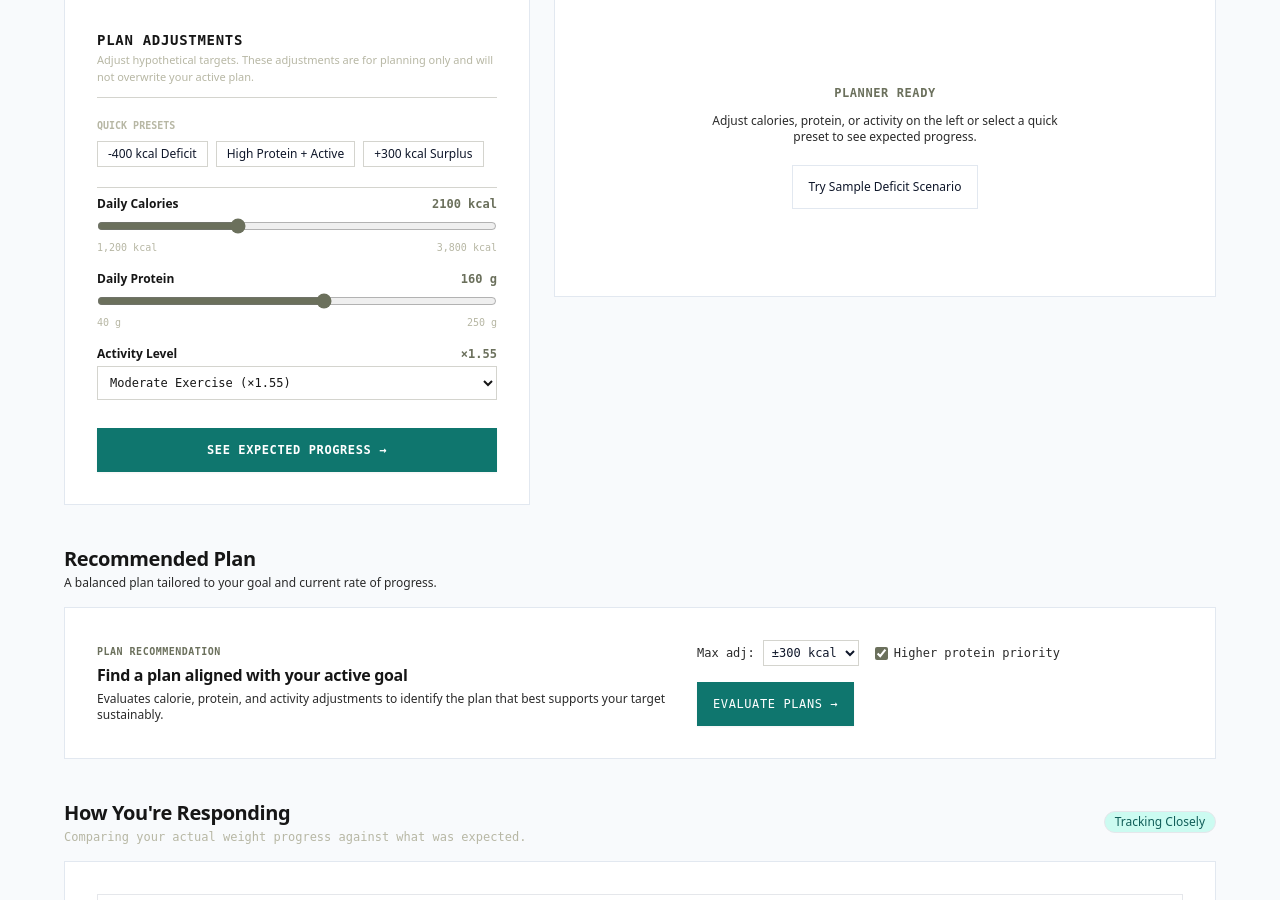
Test case: Phase 3 — Personal Fitness Digital Twin Frontend Module › 5. Simulation response renders projected metrics and non-causal statement
(page scrolled)
Click the button "See Expected Progress →" at (297, 450), box left=97, top=428, right=497, bottom=472
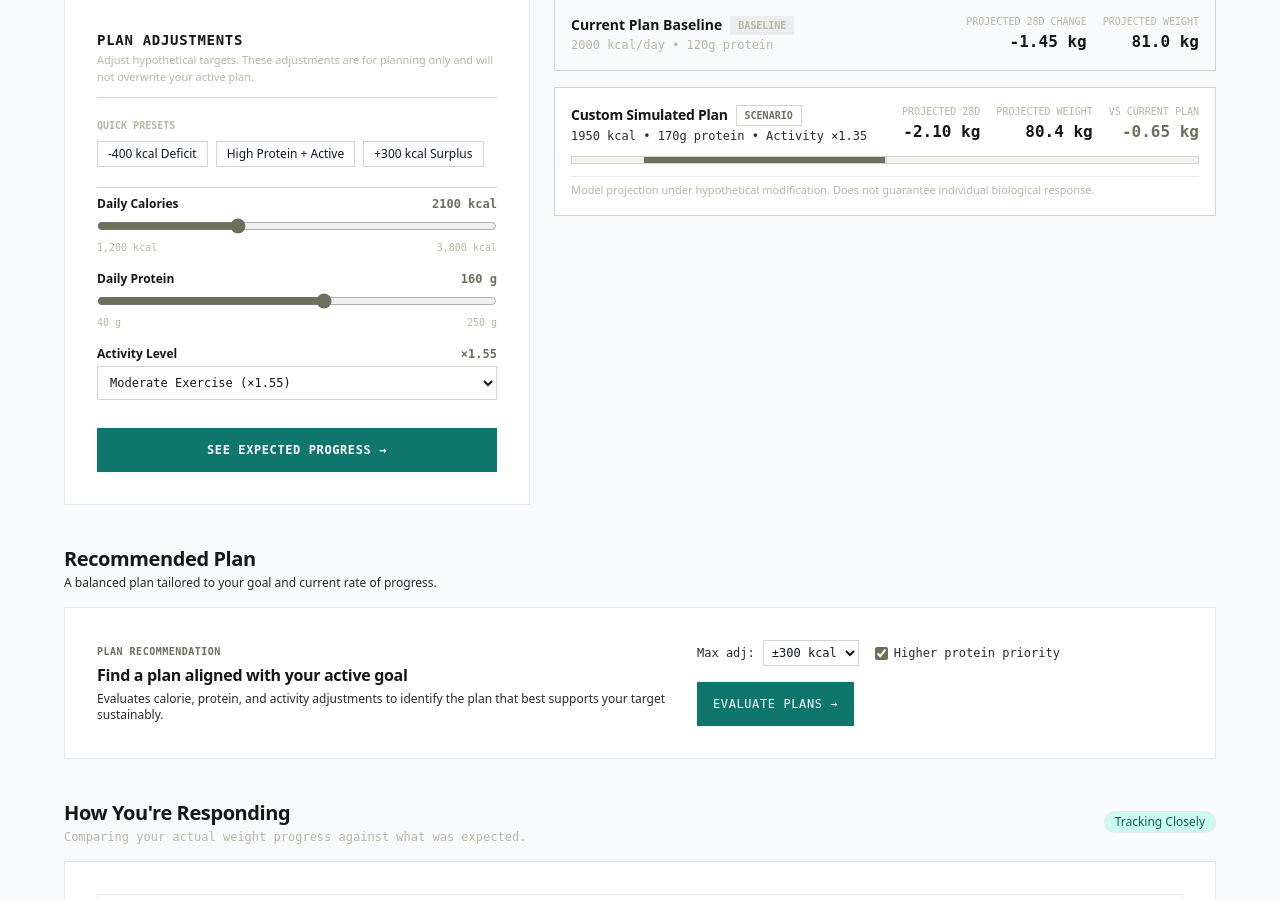
Result: the heading "Custom Simulated Plan" is shown at left=571, top=105, right=728, bottom=125
Result: the text "-2.10 kg" is shown at left=903, top=122, right=980, bottom=141
Result: the text "80.4 kg" is shown at left=1025, top=122, right=1093, bottom=141
